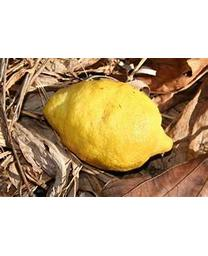lemon: (47, 82, 173, 172)
